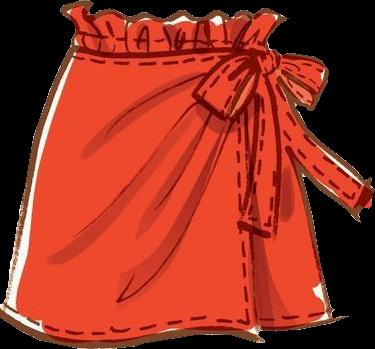Hemline: (0, 57, 258, 348), (1, 315, 332, 348)
Waistline: (58, 1, 287, 22), (69, 46, 269, 58)
